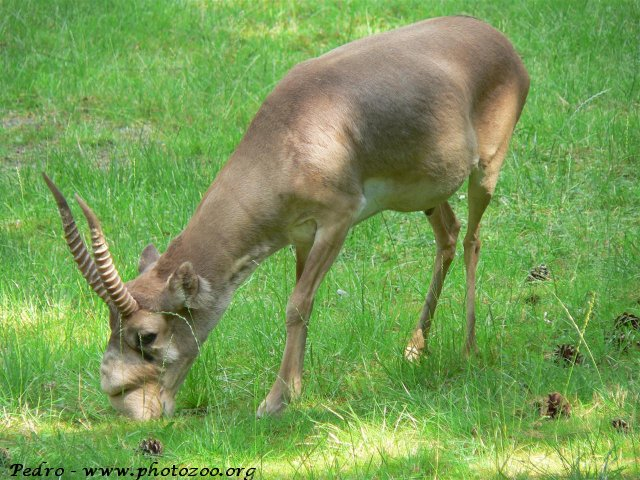saiga: (41, 12, 531, 424)
